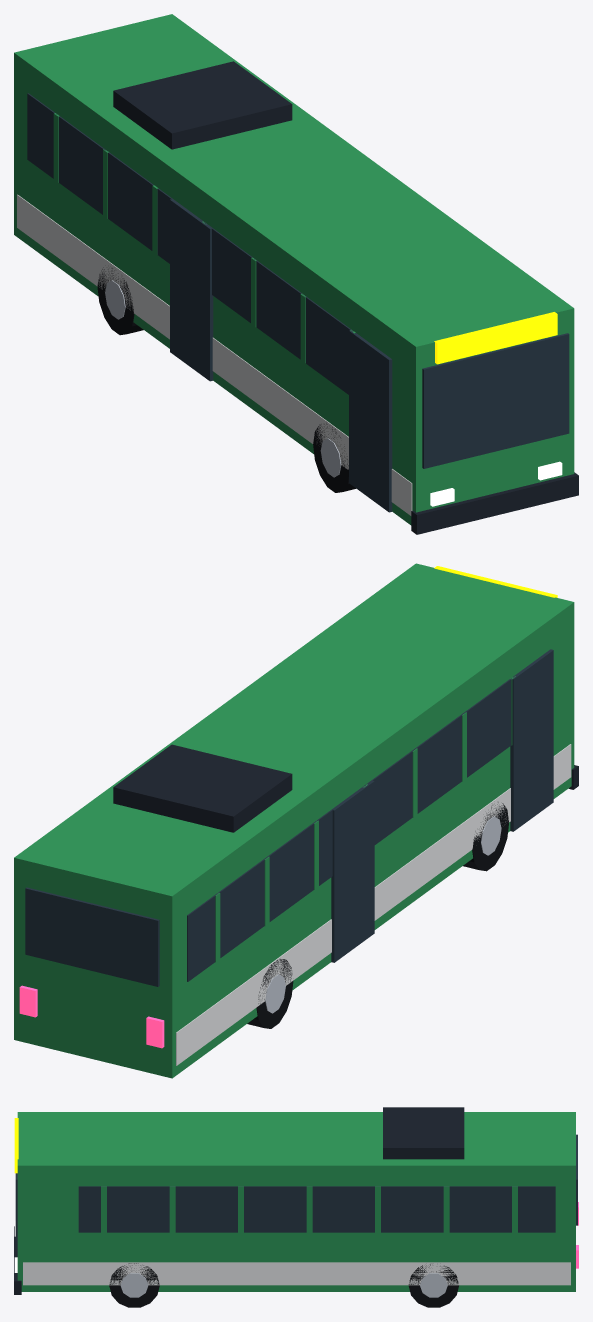
Rendered from city_bus.glb.
3 views of the same model, one above another, from view 1: azimuth 30°, elevation 25°; view 2: azimuth 150°, elevation 25°; view 3: azimuth 270°, elevation 25° (orthographic). The views are drawn at different scales.
Parts seen in each view (by area): view 1: body; view 2: body; view 3: body.
Part boxes in pixels (box(x1,y1,x2,y2)): body: box(14, 14, 578, 534); body: box(14, 563, 578, 1078); body: box(14, 1107, 578, 1307).
Bounding box in the file's own units: 2.58 × 3.33 × 11.13.
